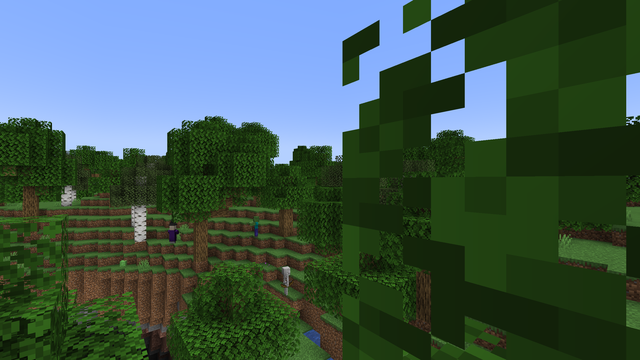slimes: (120, 259, 126, 266)
sorcieres: (169, 223, 176, 243)
squelettes: (280, 266, 291, 296)
zombies: (252, 216, 260, 237)
